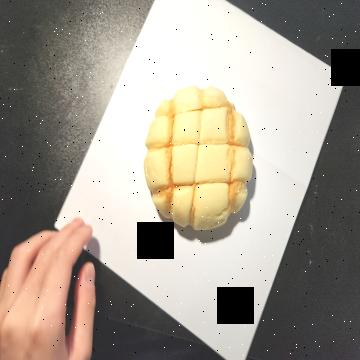melon_bread: (144, 86, 253, 232)
